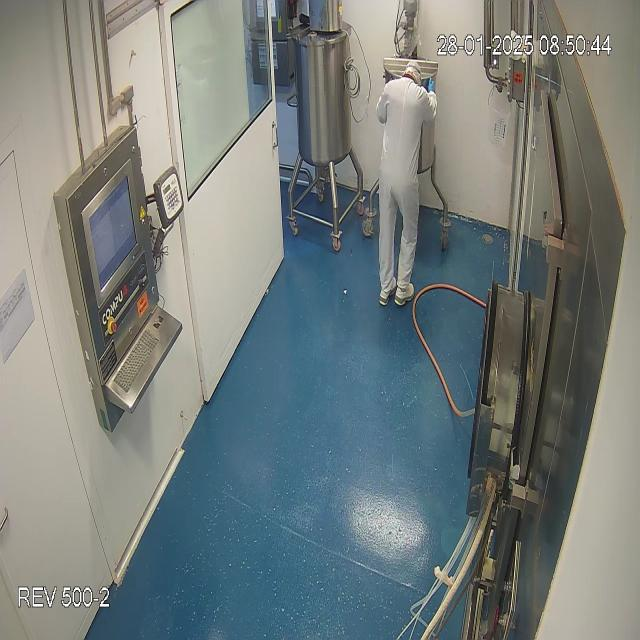bota: (377, 269, 417, 308)
pessoa: (374, 58, 439, 312)
touca: (401, 60, 427, 90)
